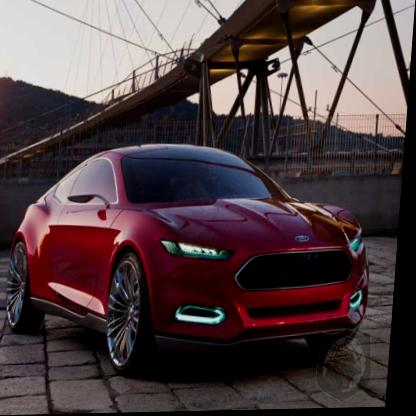Car: (5, 140, 382, 380)
